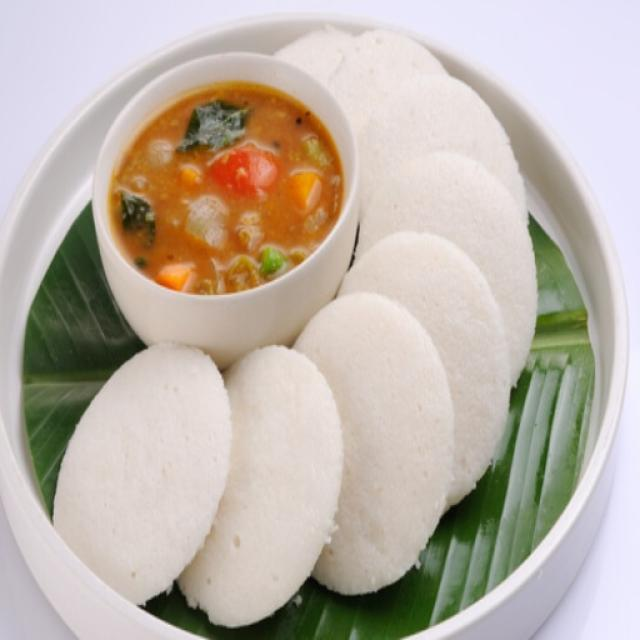IDLI: (54, 30, 514, 626)
SAMBAR: (108, 79, 346, 297)
